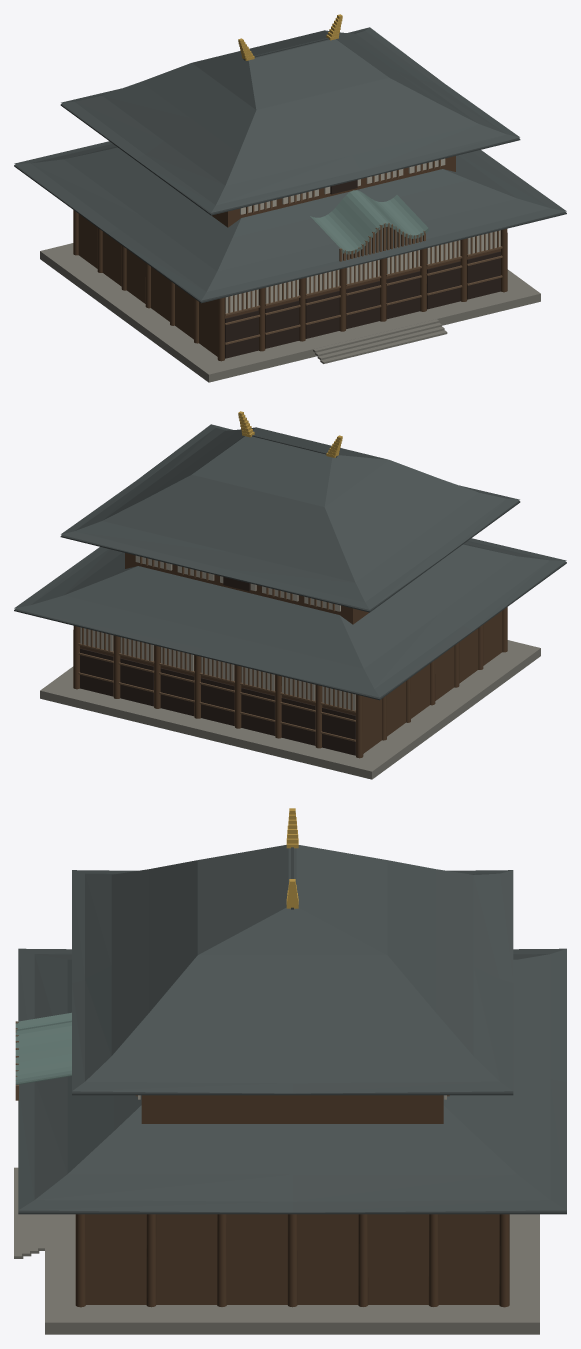
File: todaiji.glb
3 views of the same model, one above another, from view 1: azimuth 30°, elevation 25°; view 2: azimuth 150°, elevation 25°; view 3: azimuth 270°, elevation 25° (orthographic). The views are drawn at different scales.
Size of the model in its own units: 73.8 by 48.74 by 65.9.
